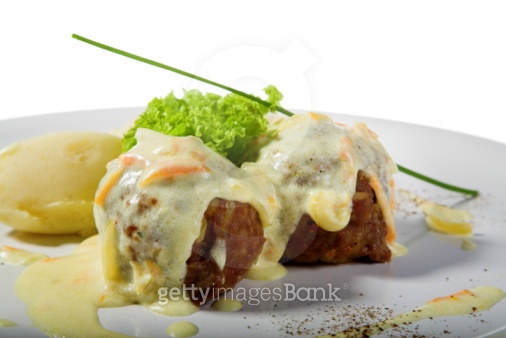boiled potatoes: (2, 129, 117, 230)
meatballs: (98, 137, 263, 306), (260, 110, 397, 265)
